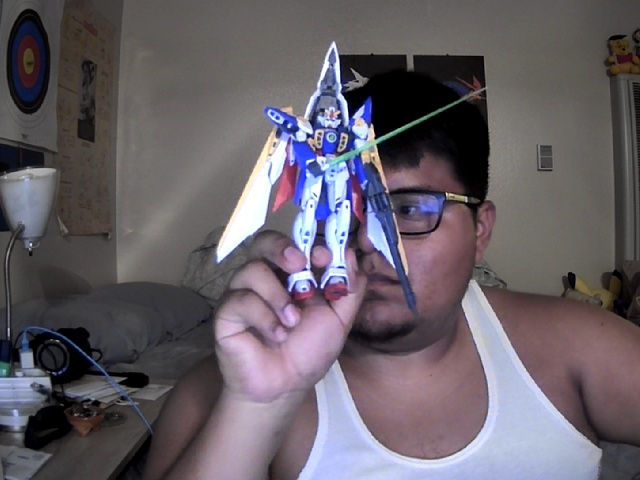Wing-01: (216, 40, 489, 319)
